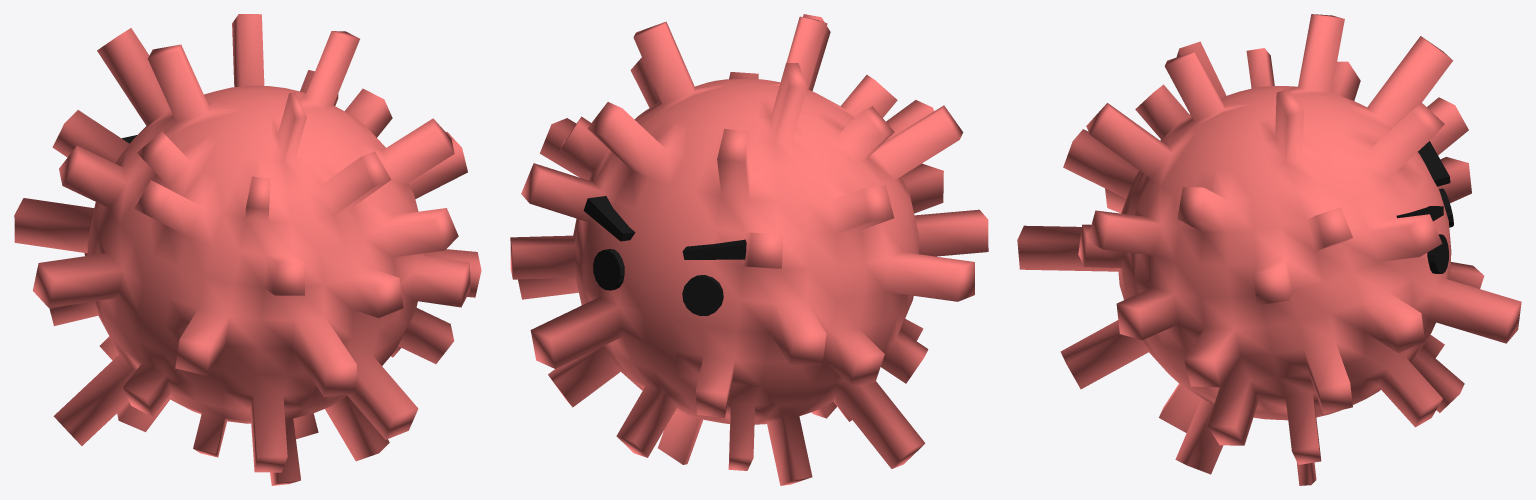
File: Virus_Corona_Angry_1.fbx
3 views of the same model, side by side, from view 1: azimuth 30°, elevation 25°; view 2: azimuth 150°, elevation 25°; view 3: azimuth 270°, elevation 25° (orthographic). The views are drawn at different scales.
Visible parts, largest first — view 1: Virus; view 2: Virus; view 3: Virus.
Boxes of the visible parts, x1,y1,x2,y2 form: Virus: [14, 14, 481, 485]; Virus: [510, 14, 988, 485]; Virus: [1017, 14, 1521, 485].
Bounding box in the file's own units: 1.41 × 1.5 × 1.37.
